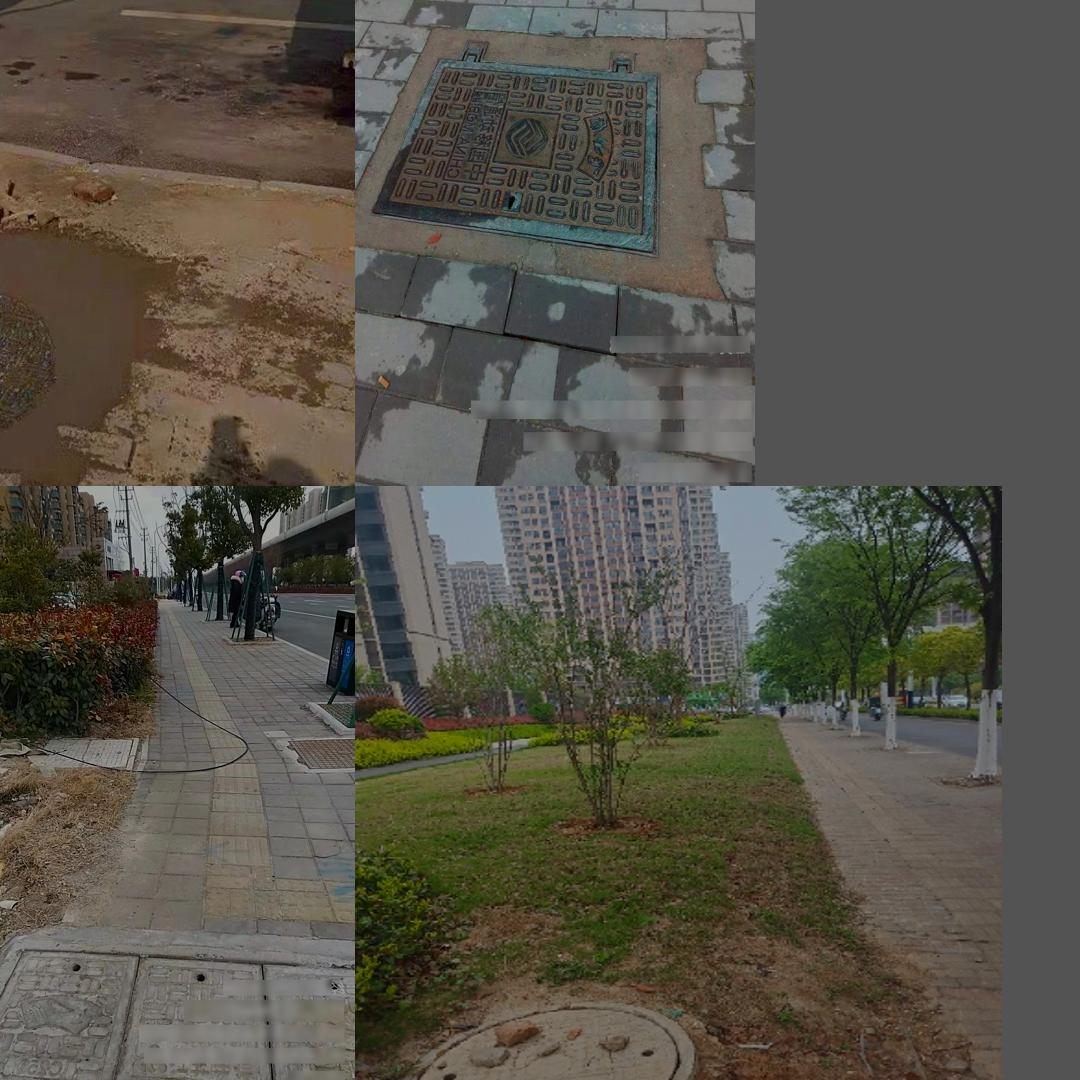good: (369, 44, 660, 257), (0, 938, 352, 1080), (0, 223, 145, 475), (393, 1000, 701, 1080), (27, 734, 140, 772), (283, 734, 354, 772)
